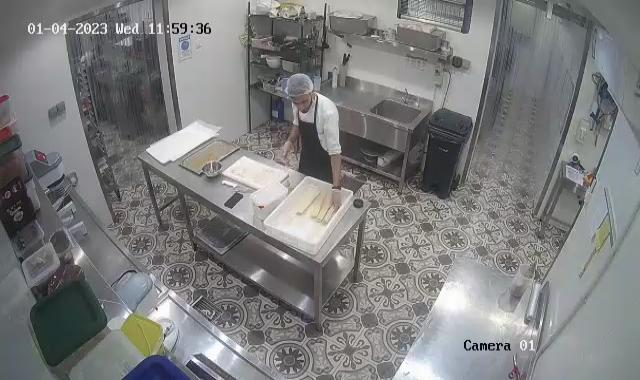hairnet: (285, 72, 317, 105)
